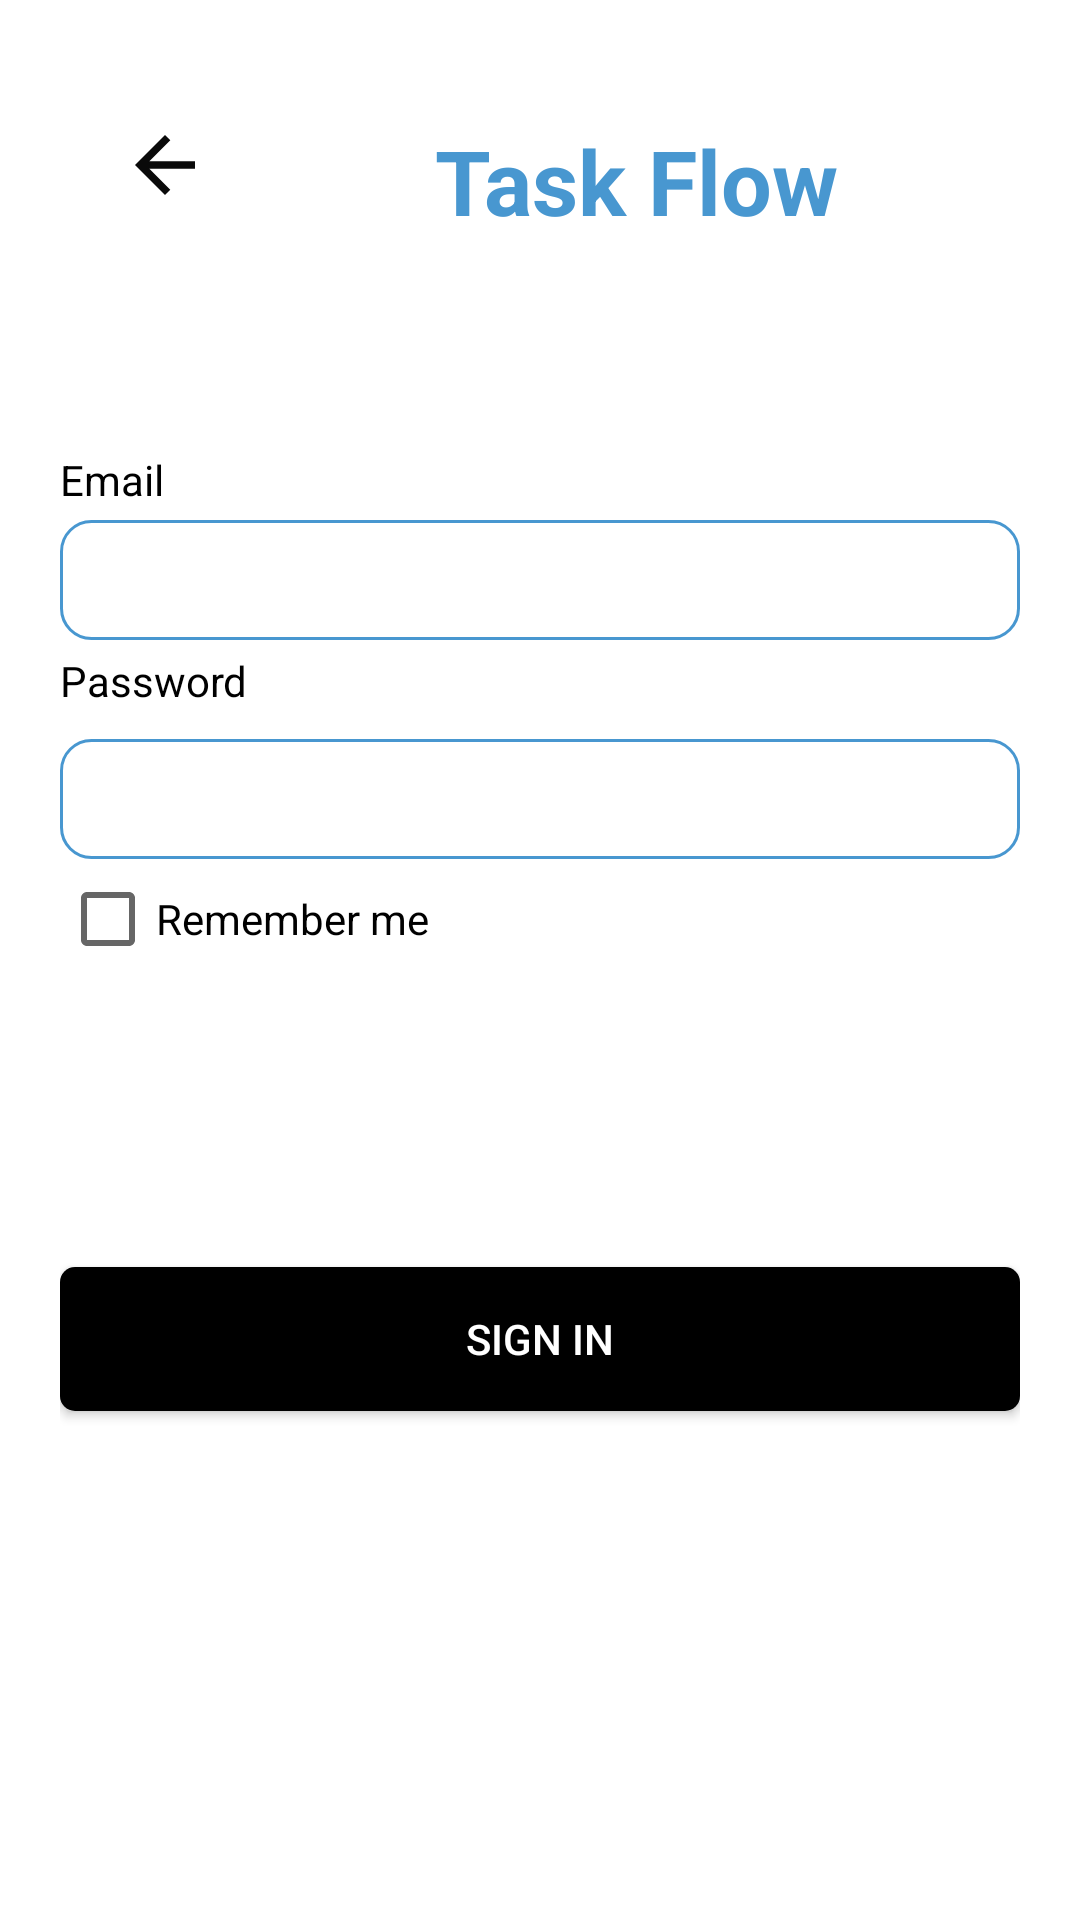

Named icons in this screenshot (1080px×1920px) and their bounding boxes, (x1, y1, x2, y2):
arrow back: (135, 135, 195, 195)
